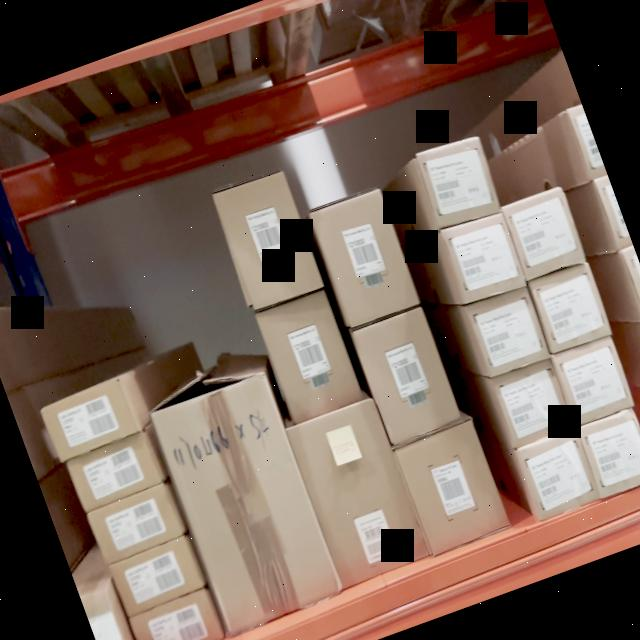box: (149, 370, 343, 632), (286, 397, 431, 588), (392, 417, 512, 558), (212, 166, 326, 312), (350, 303, 464, 445), (309, 187, 420, 329), (255, 288, 364, 427), (414, 132, 506, 235), (67, 430, 169, 518), (466, 284, 552, 382), (442, 207, 528, 303), (502, 185, 588, 281), (86, 482, 184, 565), (42, 380, 140, 462), (108, 536, 206, 618), (552, 337, 638, 430), (514, 430, 600, 519), (492, 361, 574, 449), (533, 268, 614, 354), (574, 403, 640, 501), (126, 587, 223, 640)
